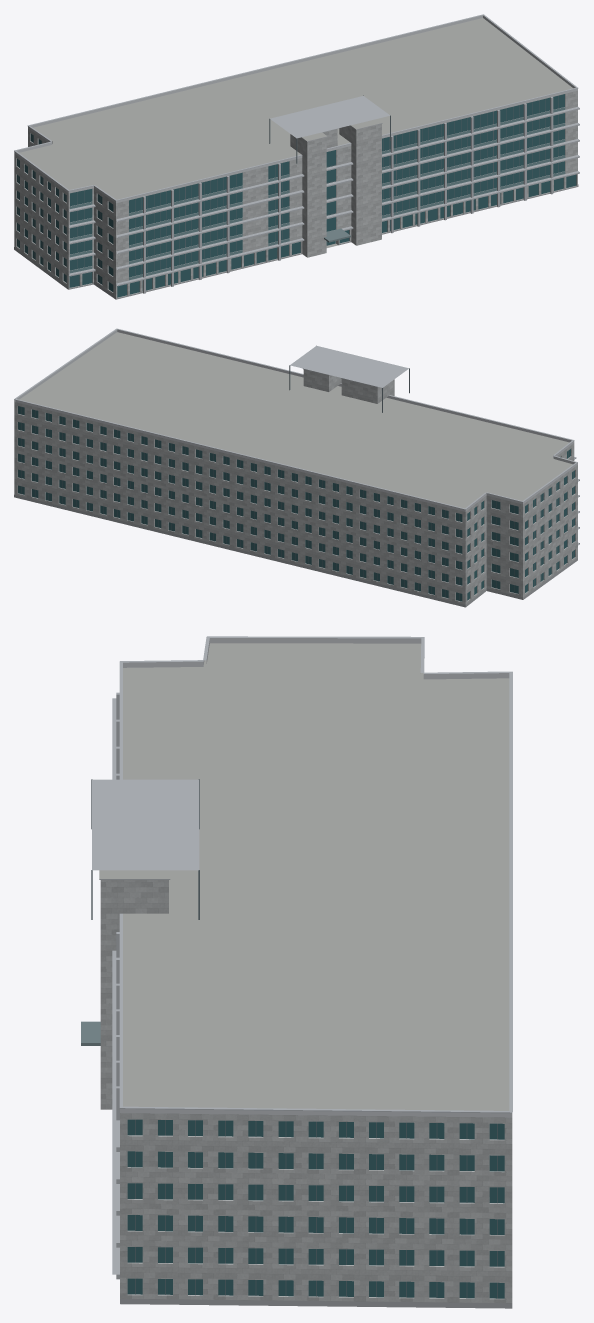
3 views of the same model, one above another, from view 1: azimuth 30°, elevation 25°; view 2: azimuth 150°, elevation 25°; view 3: azimuth 270°, elevation 25° (orthographic). The views are drawn at different scales.
Parts seen in each view (by area): view 1: hit__roof, hit__glass, hit__wall, hit__trim, hit__spandrel, hit__parapet, hit__frame, hit__base; view 2: hit__wall, hit__roof, hit__glass, hit__trim, hit__parapet, hit__frame, hit__base; view 3: hit__roof, hit__wall, hit__glass, hit__trim, hit__parapet, hit__base, hit__frame.
Part boxes in pixels (x1,y1,x2,y2): hit__roof: (19,18,572,247); hit__glass: (17,94,576,297); hit__wall: (14,90,577,298); hit__trim: (14,14,579,293); hit__spandrel: (70,107,565,280); hit__parapet: (14,15,577,203); hit__frame: (18,95,558,283); hit__base: (14,184,578,299); hit__wall: (14,369,577,604); hit__roof: (19,332,572,508); hit__glass: (18,406,574,601); hit__trim: (14,328,579,545); hit__parapet: (14,329,577,511); hit__frame: (21,365,573,600); hit__base: (14,494,577,607); hit__roof: (99,643,509,1110); hit__wall: (100,880,512,1303); hit__glass: (127,1119,504,1298); hit__trim: (92,636,512,1279); hit__parapet: (120,638,512,1117); hit__base: (120,1299,512,1308); hit__frame: (91,779,497,1298).
Bounding box in the file's own units: 116 × 27.8 × 44.29.
10 materials, 1 textured.
